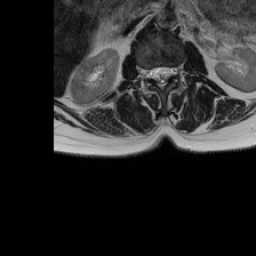CCS_normal: (156, 58, 164, 92)
LFS_normal: (172, 58, 180, 82)
LLS_normal: (164, 58, 172, 83)
RFS_normal: (141, 60, 149, 84)
RLS_normal: (149, 60, 156, 84)
